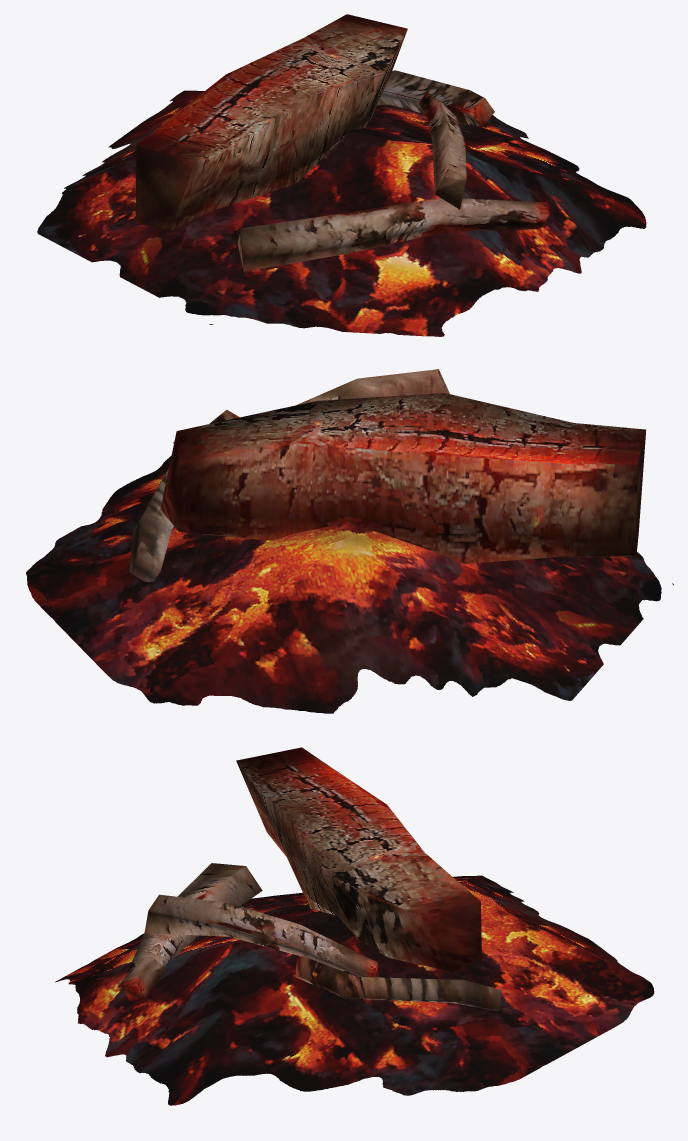
File: CampFire.fbx
3 views of the same model, one above another, from view 1: azimuth 30°, elevation 25°; view 2: azimuth 150°, elevation 25°; view 3: azimuth 270°, elevation 25° (orthographic). The views are drawn at different scales.
Parts seen in each view (by area): view 1: SM_Campfire01.mo; view 2: SM_Campfire01.mo; view 3: SM_Campfire01.mo.
Part boxes in pixels (x1=…): SM_Campfire01.mo: x1=37, y1=14, x2=646, y2=336; SM_Campfire01.mo: x1=26, y1=369, x2=673, y2=713; SM_Campfire01.mo: x1=55, y1=747, x2=654, y2=1105.
Bounding box in the file's own units: 396 × 118 × 442.
